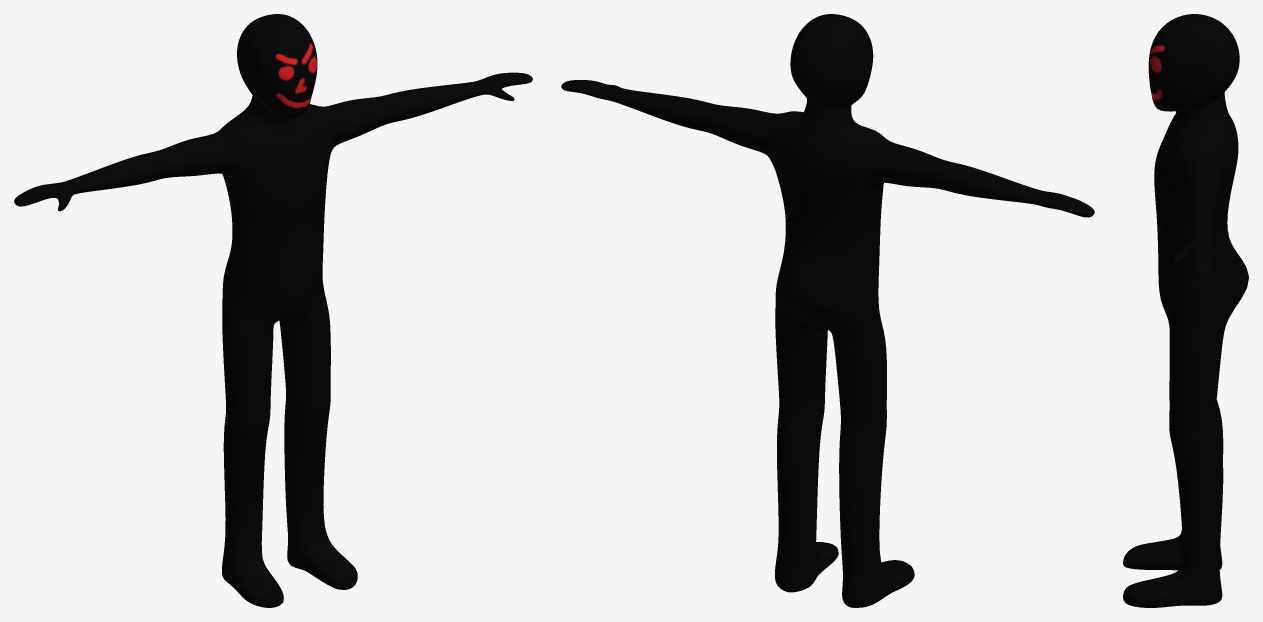
Rendered from Monster.fbx.
3 views of the same model, side by side, from view 1: azimuth 30°, elevation 25°; view 2: azimuth 150°, elevation 25°; view 3: azimuth 270°, elevation 25° (orthographic). The views are drawn at different scales.
Visible parts, largest first — view 1: node_id4; view 2: node_id4; view 3: node_id4.
Boxes of the visible parts, x1=… form: node_id4: x1=14, y1=14, x2=532, y2=607; node_id4: x1=561, y1=14, x2=1094, y2=607; node_id4: x1=1123, y1=14, x2=1248, y2=607.
Bounding box in the file's own units: 0.4964 × 0.512 × 0.1031.
Materials: 1 (1 with a texture image).
